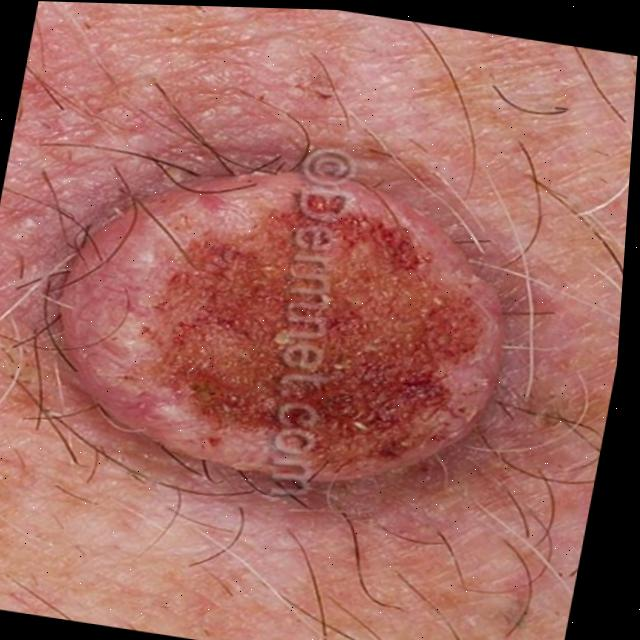Eczema: (58, 127, 539, 511)
